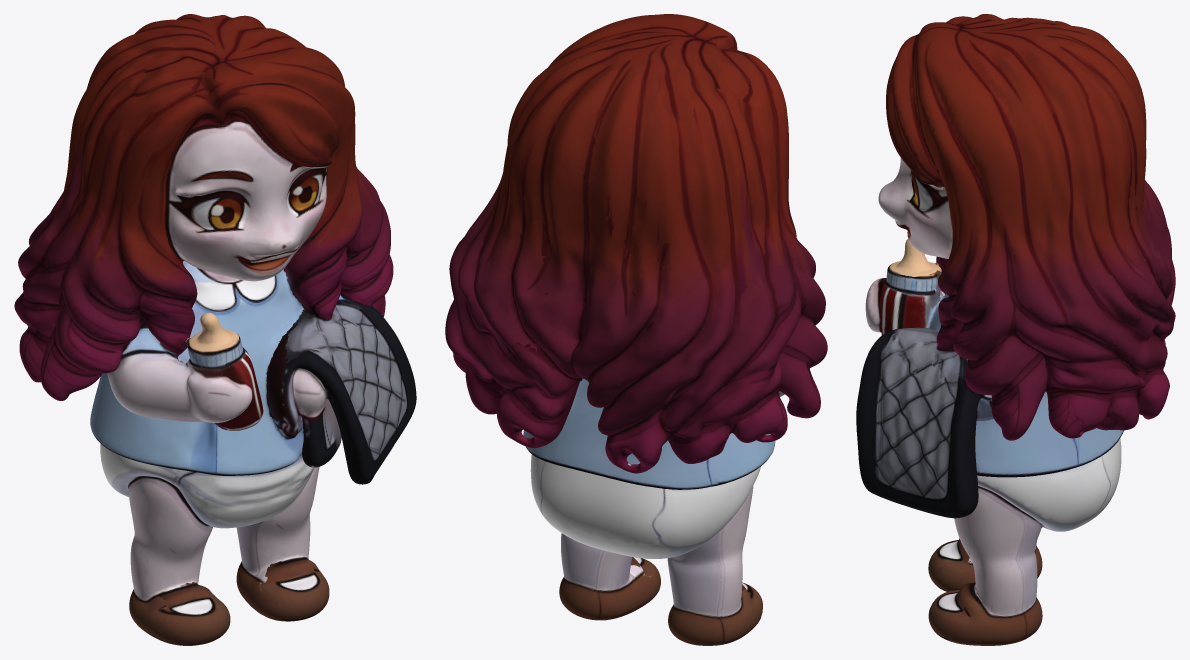
The model's file is faithpampire.glb.
The picture shows the model from 3 angles, left to right: view 1: azimuth 30°, elevation 25°; view 2: azimuth 150°, elevation 25°; view 3: azimuth 270°, elevation 25°; orthographic projection.
Visible parts, largest first — view 1: temp_mesh.ply; view 2: temp_mesh.ply; view 3: temp_mesh.ply.
Boxes of the visible parts, bbox=[...] form: temp_mesh.ply: bbox=[14, 14, 416, 645]; temp_mesh.ply: bbox=[445, 14, 827, 645]; temp_mesh.ply: bbox=[856, 14, 1175, 645].
Bounding box in the file's own units: 5.4 × 8.57 × 4.32.
Materials: 1 (1 with a texture image).
